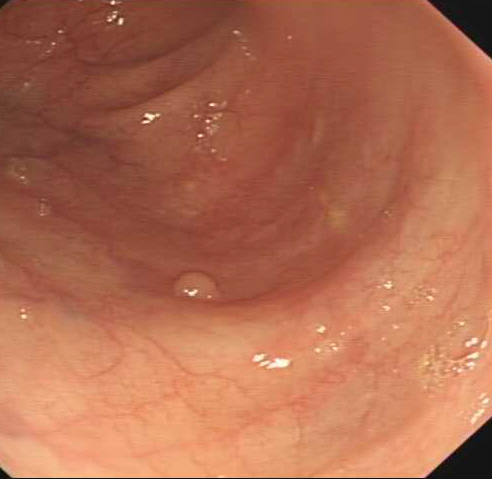others: (171, 267, 221, 303)
